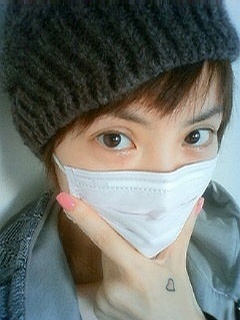face_mask: (56, 59, 222, 252)
